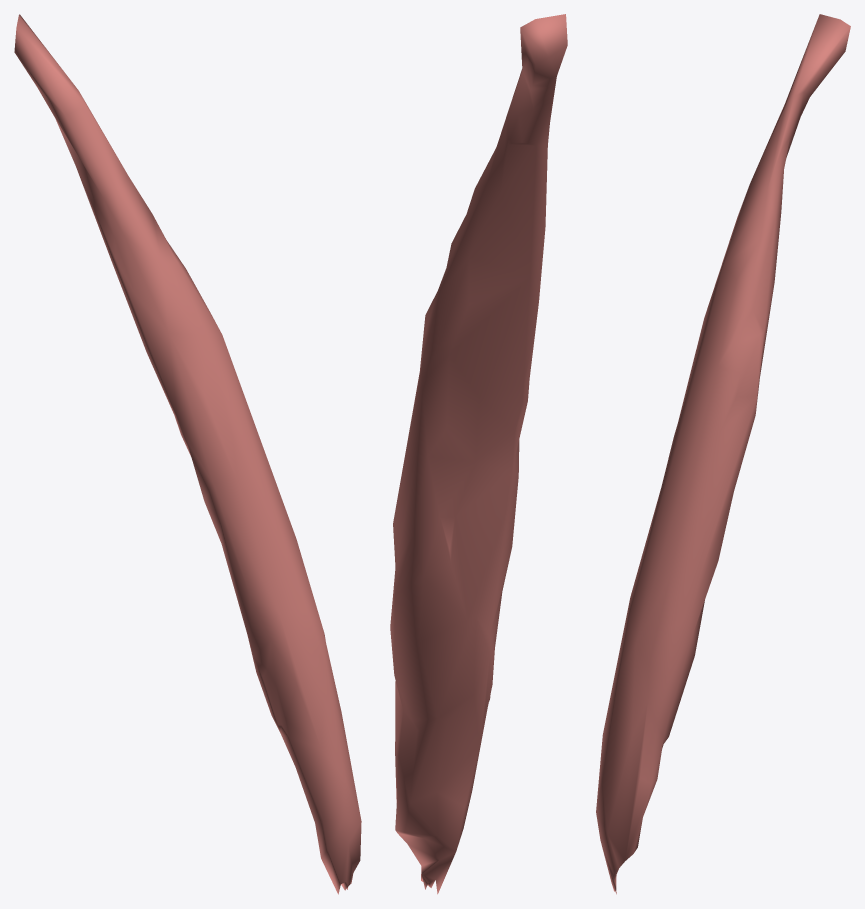
3 views of the same model, side by side, from view 1: azimuth 30°, elevation 25°; view 2: azimuth 150°, elevation 25°; view 3: azimuth 270°, elevation 25° (orthographic). The views are drawn at different scales.
Parts seen in each view (by area): view 1: ZA_39aeb2912d750976; view 2: ZA_39aeb2912d750976; view 3: ZA_39aeb2912d750976.
Boxes of the visible parts, x1,y1,x2,y2 form: ZA_39aeb2912d750976: (14, 14, 361, 894); ZA_39aeb2912d750976: (390, 14, 567, 894); ZA_39aeb2912d750976: (596, 14, 850, 894).
Size of the model in its own units: 0.0186 by 0.0619 by 0.0183.
